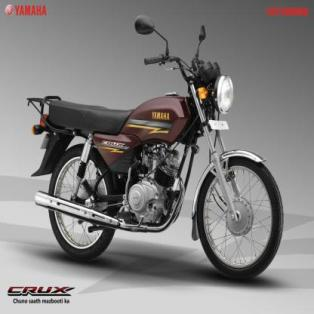Motocicleta: (33, 14, 291, 282)
